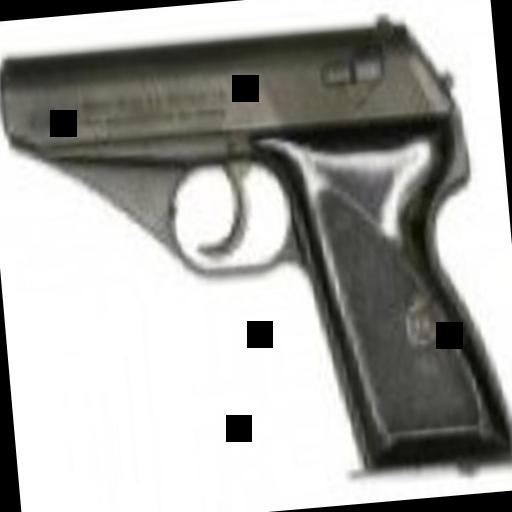Handgun: (0, 7, 512, 509)
